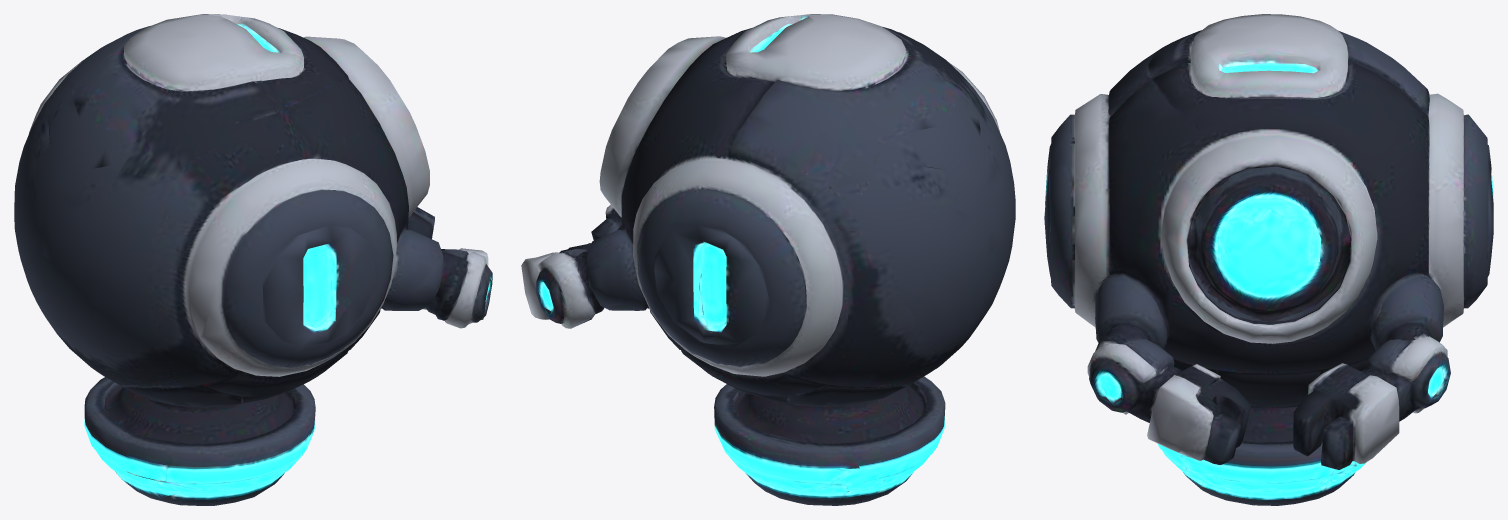
The model's file is worker-drone.glb.
3 renders of one model, left to right at view 1: azimuth 30°, elevation 25°; view 2: azimuth 150°, elevation 25°; view 3: azimuth 270°, elevation 25°, orthographic.
Parts seen in each view (by area): view 1: worker-drone-body; view 2: worker-drone-body; view 3: worker-drone-body.
Boxes of the visible parts, x1,y1,x2,y2 form: worker-drone-body: (14,14,492,505); worker-drone-body: (521,14,1015,505); worker-drone-body: (1044,14,1493,505).
Size of the model in its own units: 1 by 0.9976 by 0.9009.
Materials: 1 (1 with a texture image).
